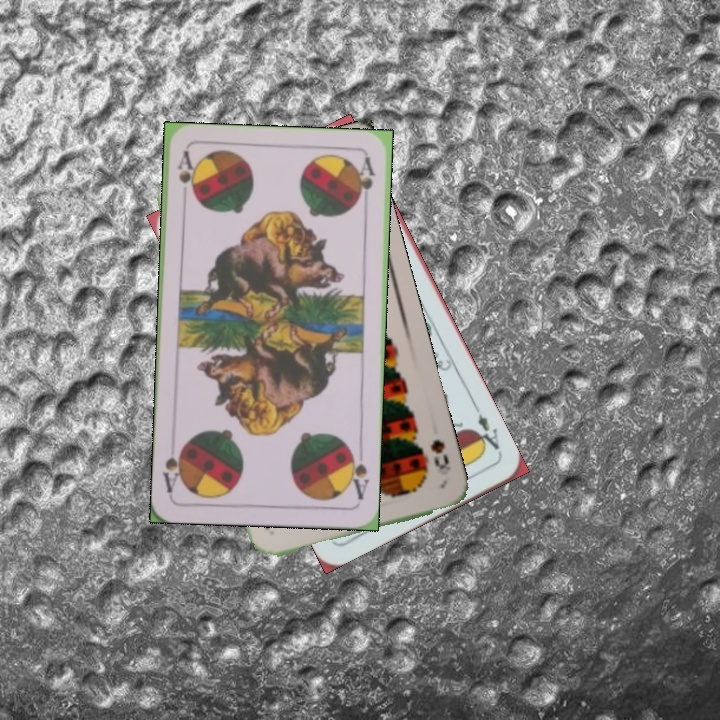EA: (468, 402, 505, 457)
S8: (426, 435, 454, 473)
SA: (344, 444, 372, 502), (173, 148, 197, 199)
